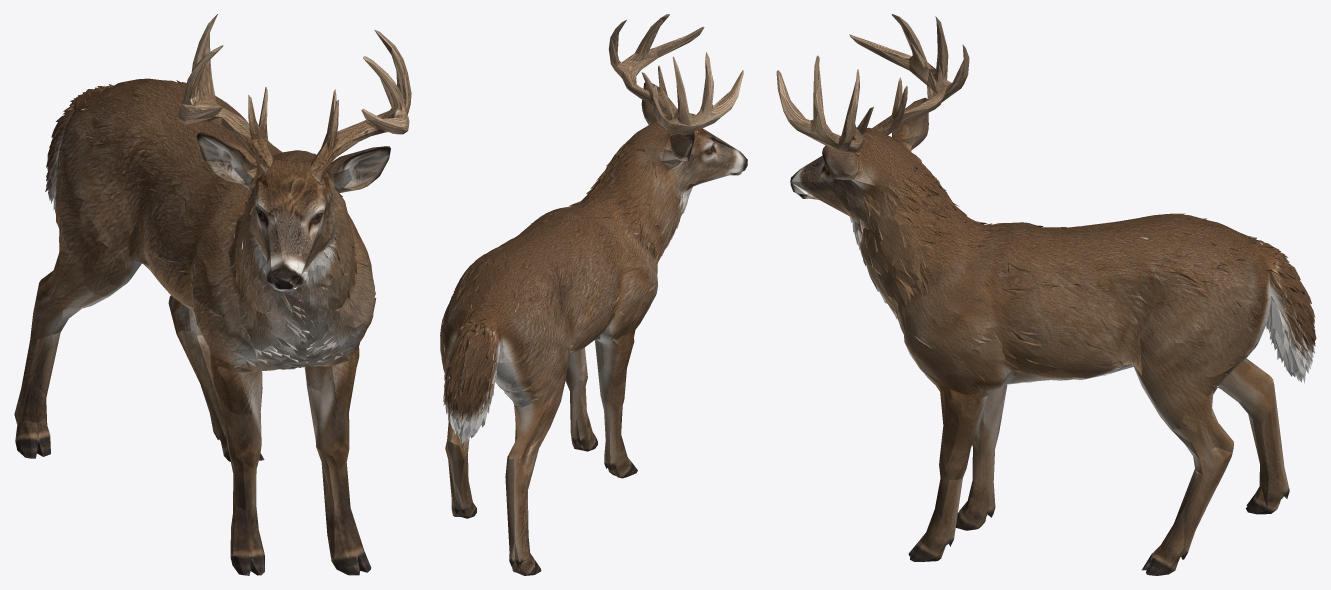
File: deer.glb
3 renders of one model, left to right at view 1: azimuth 30°, elevation 25°; view 2: azimuth 150°, elevation 25°; view 3: azimuth 270°, elevation 25°, orthographic. The views are drawn at different scales.
Parts seen in each view (by area): view 1: output_unwrapped; view 2: output_unwrapped; view 3: output_unwrapped.
Part boxes in pixels (x1,y1,x2,y2): output_unwrapped: (14, 14, 411, 575); output_unwrapped: (440, 14, 747, 575); output_unwrapped: (776, 14, 1316, 575).
Bounding box in the file's own units: 0.5851 × 1.4 × 1.4.
Materials: 1 (1 with a texture image).
